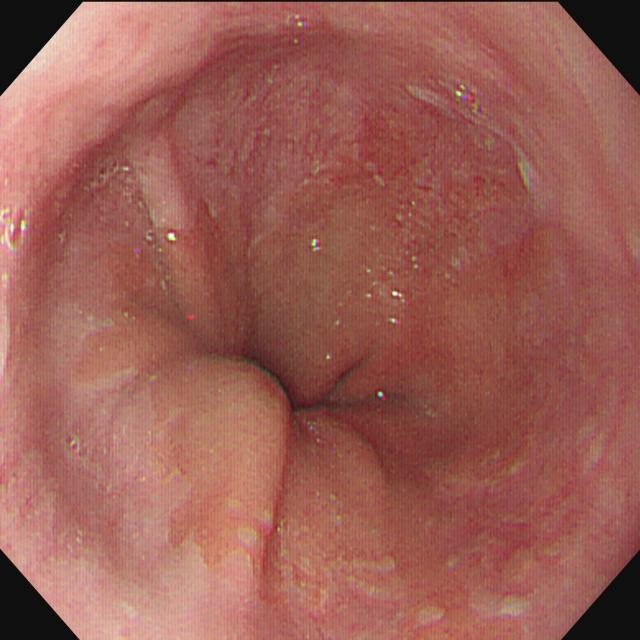I: (184, 286, 412, 477)
T: (86, 155, 140, 202), (2, 202, 34, 251), (455, 81, 490, 122)
U: (309, 236, 322, 254), (166, 228, 179, 246), (388, 290, 405, 301)
